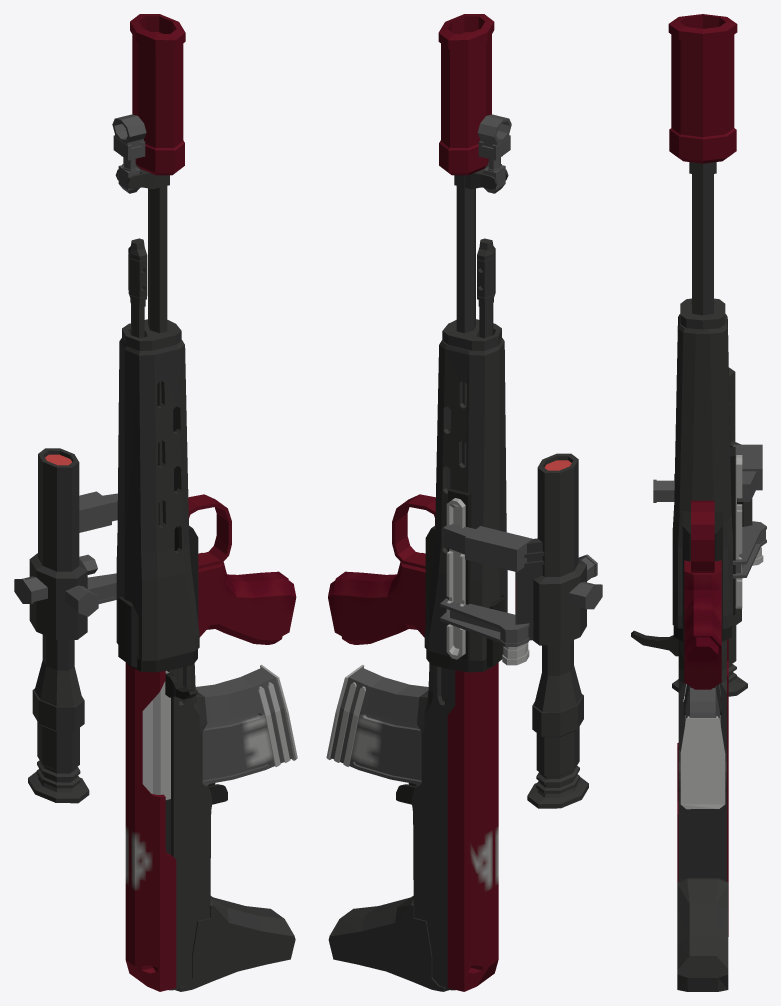
File: ReplikaSniper.fbx
3 views of the same model, side by side, from view 1: azimuth 30°, elevation 25°; view 2: azimuth 150°, elevation 25°; view 3: azimuth 270°, elevation 25° (orthographic). The views are drawn at different scales.
Parts seen in each view (by area): view 1: SVUSmol; view 2: SVUSmol; view 3: SVUSmol.
Part boxes in pixels (left/top/right/bottom): SVUSmol: left=14, top=14, right=297, bottom=991; SVUSmol: left=326, top=14, right=602, bottom=991; SVUSmol: left=631, top=14, right=766, bottom=991.
Size of the model in its own units: 0.079 by 0.5919 by 0.1697.
